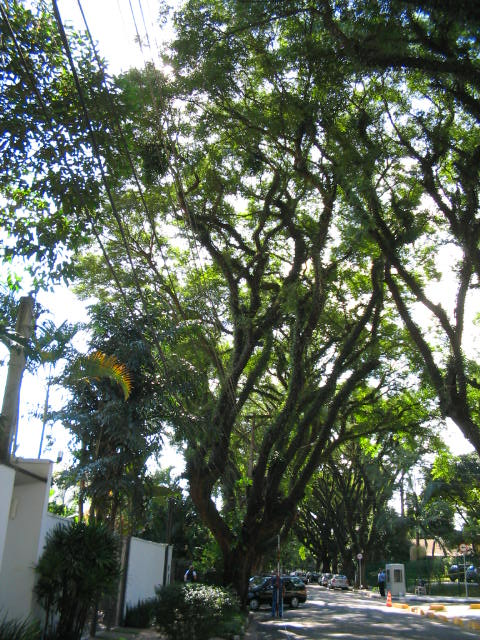stem: (208, 554, 267, 616)
stick: (274, 534, 284, 617)
tree: (163, 7, 412, 618)
